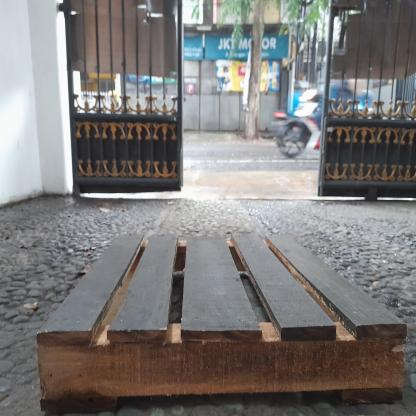Wooden-Pallet: (35, 229, 411, 415)
